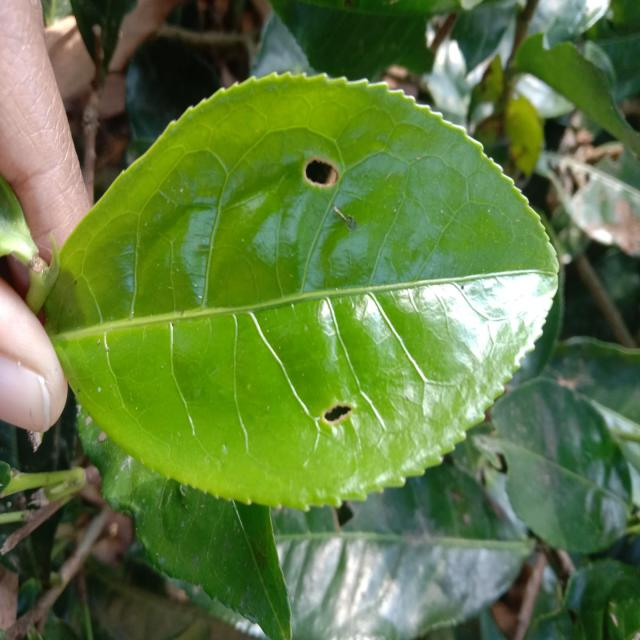Category B(2-4 days): (32, 59, 568, 522)
